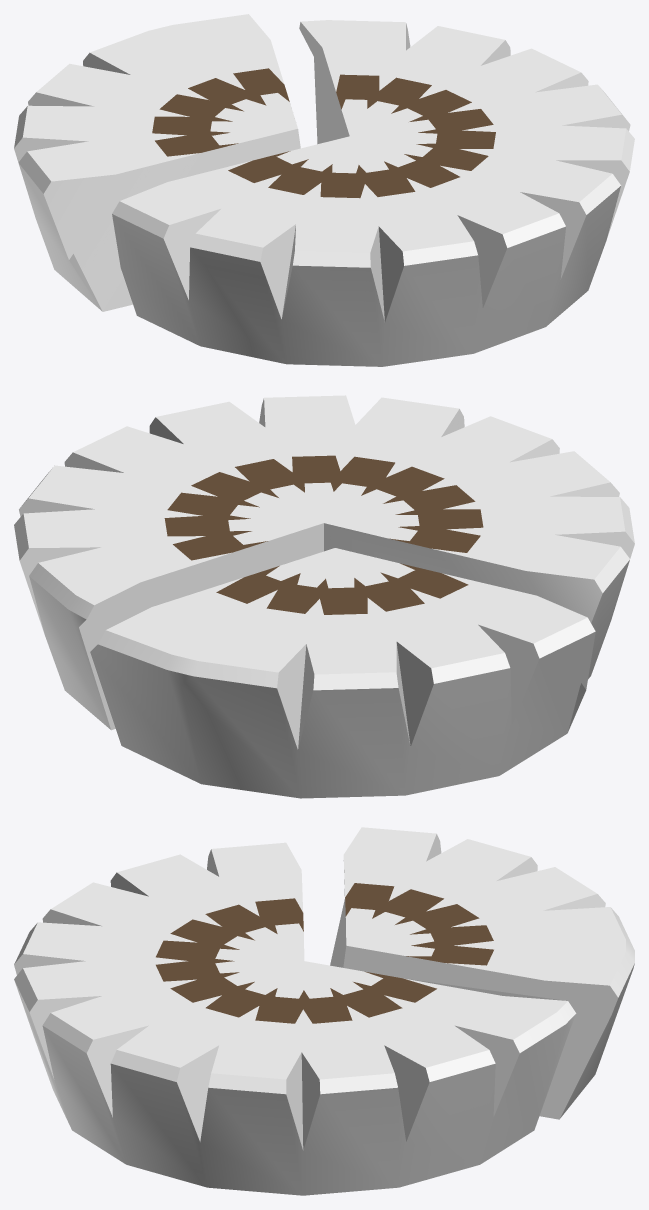
Rendered from SM_VolcanicFlats_SulphuricHorseshoe_Var4.fbx.
3 views of the same model, one above another, from view 1: azimuth 30°, elevation 25°; view 2: azimuth 150°, elevation 25°; view 3: azimuth 270°, elevation 25° (orthographic). The views are drawn at different scales.
Parts seen in each view (by area): view 1: Cylinder.010; view 2: Cylinder.010; view 3: Cylinder.010.
Boxes of the visible parts, left/top/right/bottom form: Cylinder.010: left=14, top=14, right=634, bottom=366; Cylinder.010: left=14, top=395, right=634, bottom=798; Cylinder.010: left=14, top=827, right=634, bottom=1195.
Bounding box in the file's own units: 246 × 56.84 × 248.
